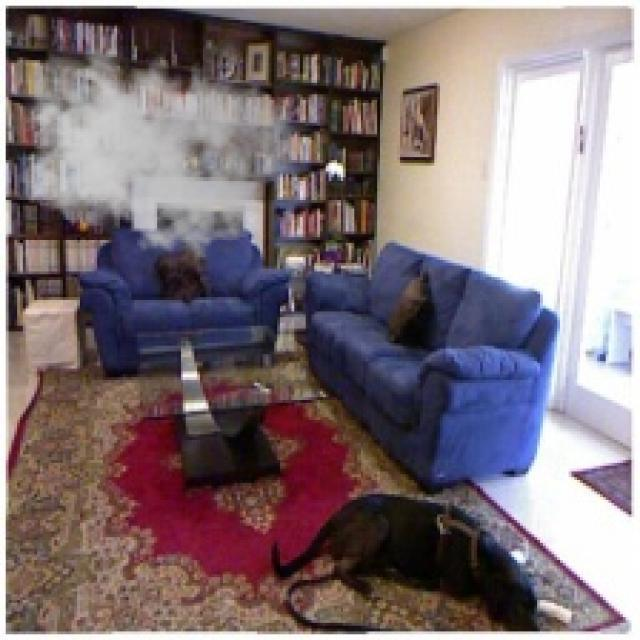Smoke: (12, 37, 294, 260)
